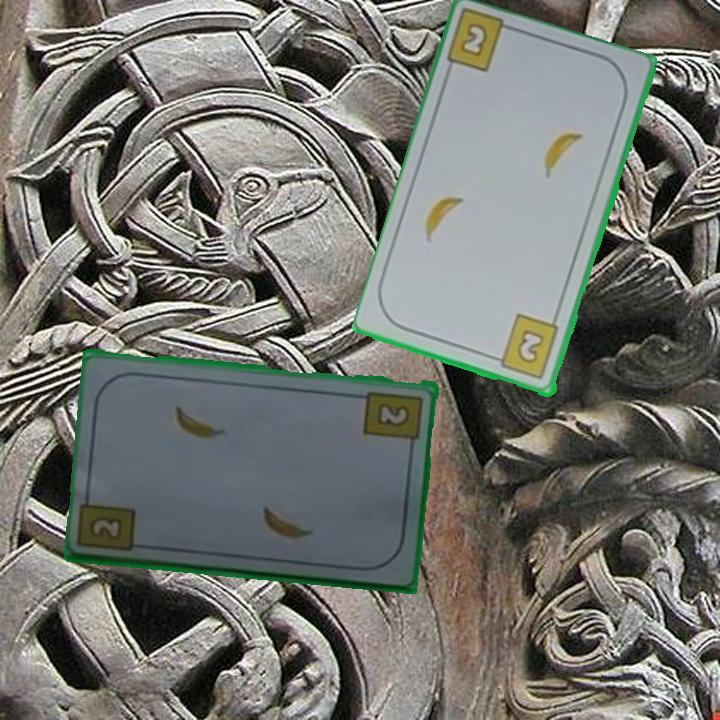2b: (489, 311, 562, 383), (361, 387, 426, 452), (456, 19, 491, 61), (90, 514, 126, 543)
